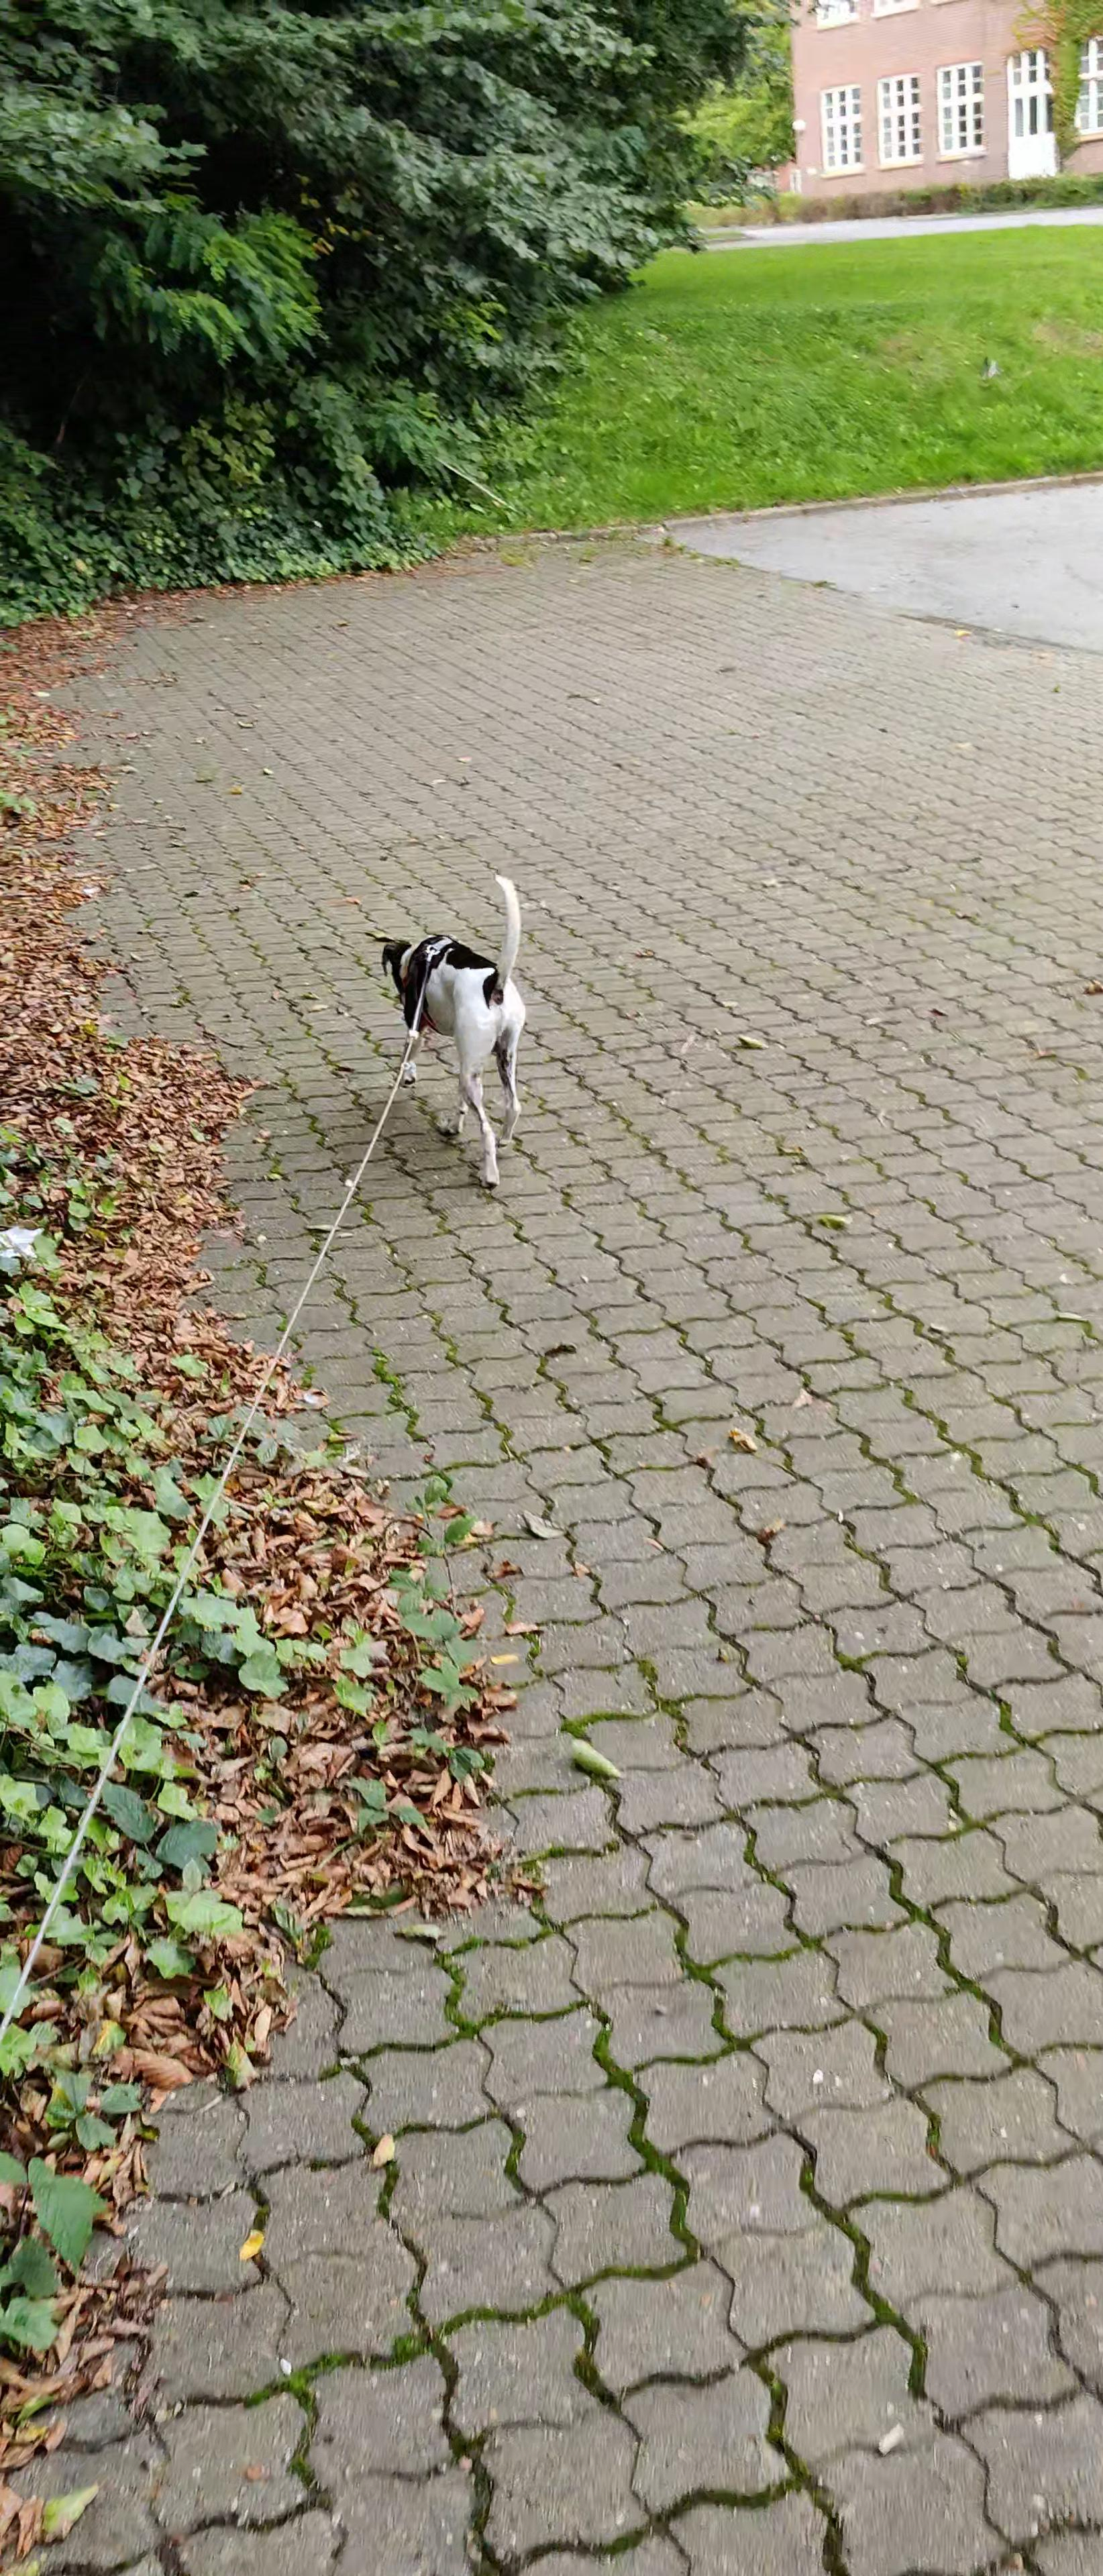Dog: (365, 854, 549, 1194)
